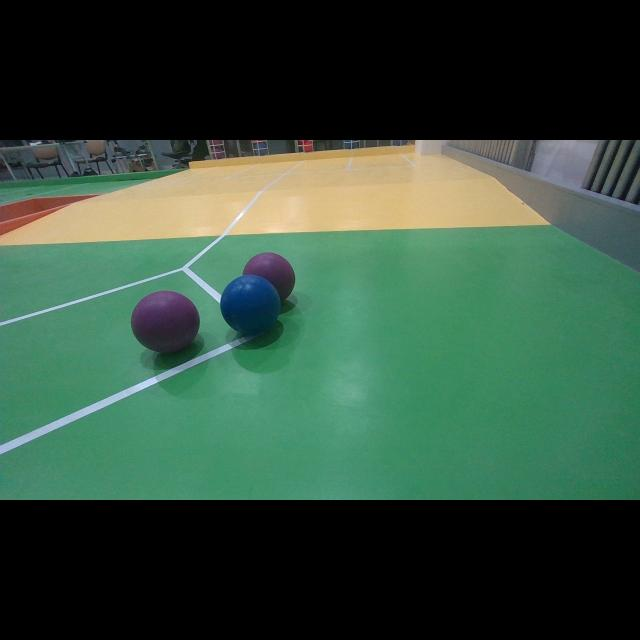B: (220, 275, 280, 335)
P: (132, 291, 200, 354), (245, 254, 295, 300)
